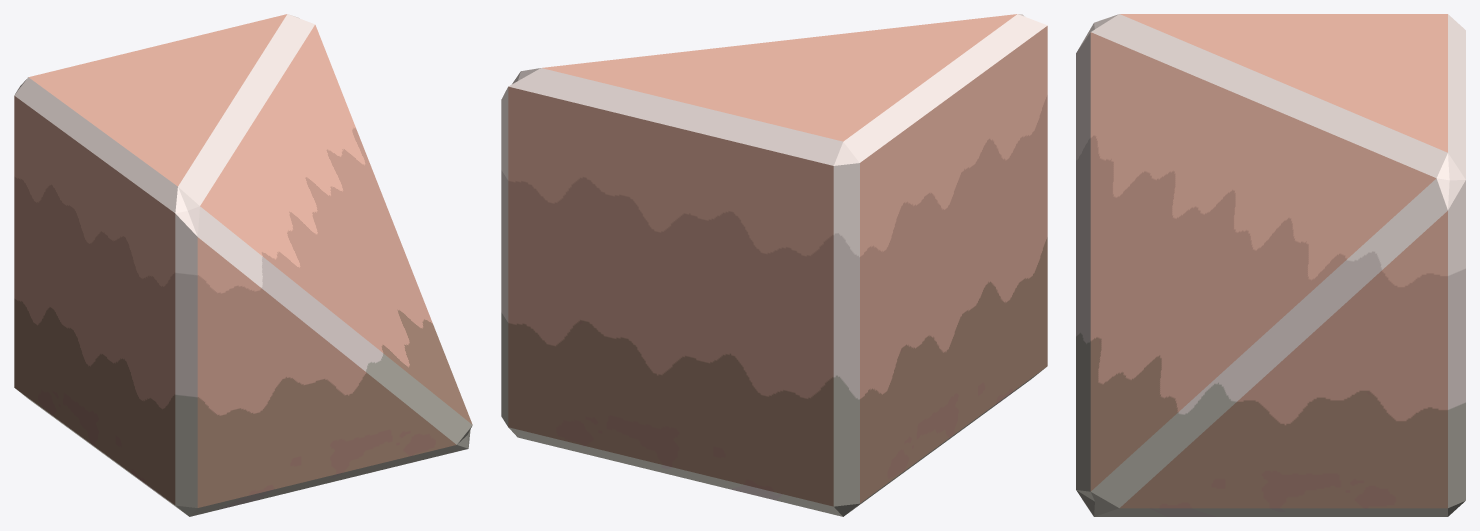
Rendered from R4B_InnerCorner_LOD1.glb.
The picture shows the model from 3 angles, left to right: view 1: azimuth 30°, elevation 25°; view 2: azimuth 150°, elevation 25°; view 3: azimuth 270°, elevation 25°; orthographic projection. The views are drawn at different scales.
Parts seen in each view (by area): view 1: R4B_InnerCorner_LOD1; view 2: R4B_InnerCorner_LOD1; view 3: R4B_InnerCorner_LOD1.
Part boxes in pixels (x1,y1,x2,y2): R4B_InnerCorner_LOD1: [14, 14, 472, 516]; R4B_InnerCorner_LOD1: [501, 14, 1047, 516]; R4B_InnerCorner_LOD1: [1076, 14, 1465, 516].
Size of the model in its own units: 0.52 by 0.52 by 0.52.
2 materials, 2 textured.
